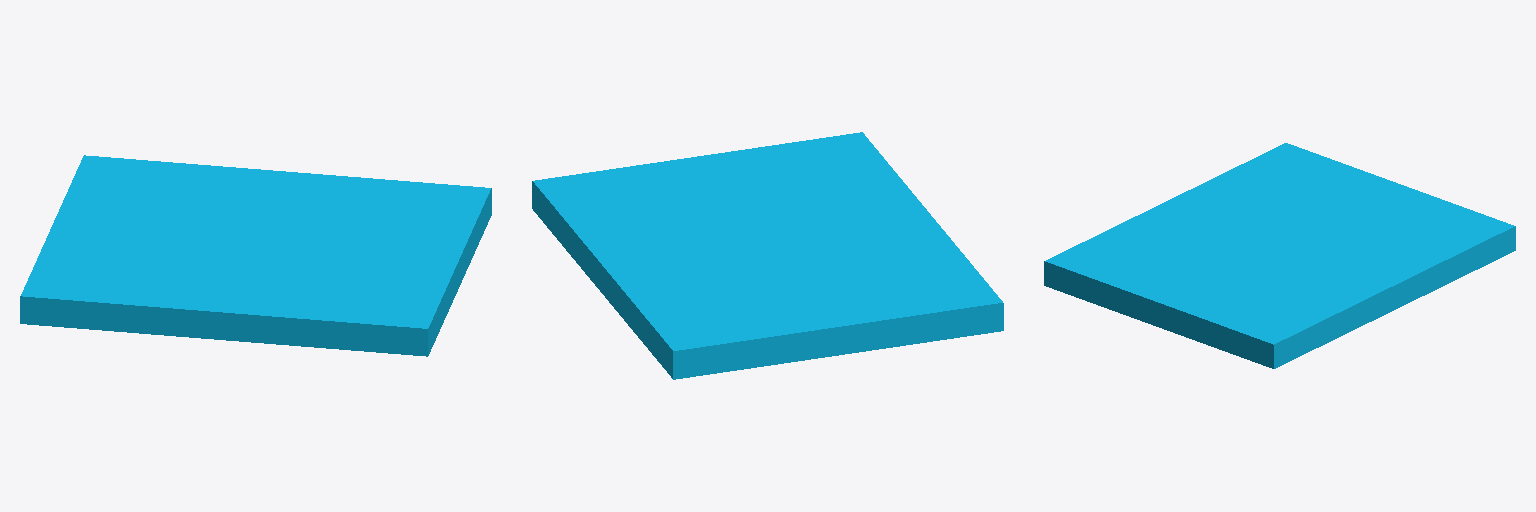
robot.urdf — Interference:
<?xml version="1.0"?>
<robot name="Interference">
  <link name="baseLink">
    <inertial>
      <origin xyz="0.0 0.0 0.0" rpy="0.0 0.0 0.0"/>
      <inertia ixx="0.0" ixy="0.0" ixz="0.0" iyy="0.0" iyz="0.0" izz="0.0"/>
      <mass value="0"/>
    </inertial>
    <visual>
      <origin xyz="0.0 0.0 0.0" rpy="0.0 0.0 -0.7110477193435706"/>
      <geometry>
        <box size="0.1357899096414716 0.11109197236081499 0.01"/>
      </geometry>
      <material name="color">
        <color rgba="0.11368973355905554 0.79174943049836 0.9696563516383603 1.0"/>
      </material>
    </visual>
  </link>
</robot>

--- Facts derived from the render (not from the file) ---
Views: 3 orthographic renders of the robot side by side, from view 1: azimuth 30°, elevation 25°; view 2: azimuth 150°, elevation 25°; view 3: azimuth 270°, elevation 25°.
Robot: Interference — 1 links, 0 joints (none); root link baseLink; default pose: every joint at zero.
Visible links, largest first — view 1: baseLink; view 2: baseLink; view 3: baseLink.
Link boxes in pixels (<box>): baseLink: <box>20,155,491,356</box>; baseLink: <box>532,132,1003,379</box>; baseLink: <box>1044,143,1515,368</box>.
Bounding box of the posed robot: 0.1754 × 0.1728 × 0.01 m (x, y, z).
Geometry: primitives only (box / cylinder / sphere), no mesh files.